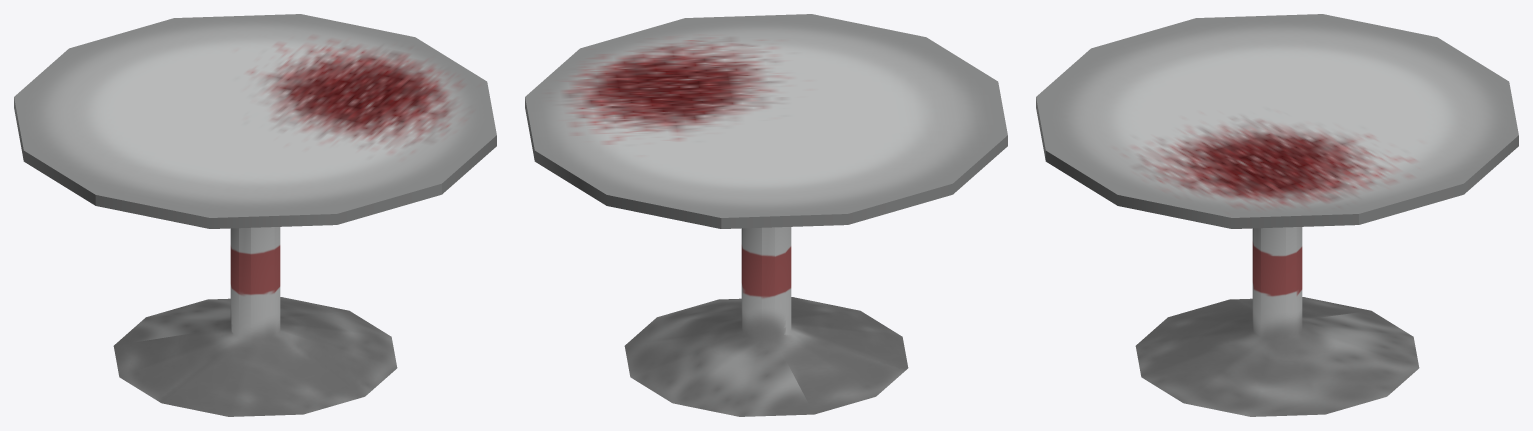
Rendered from Prop_dining_table.fbx.
3 renders of one model, left to right at view 1: azimuth 30°, elevation 25°; view 2: azimuth 150°, elevation 25°; view 3: azimuth 270°, elevation 25°, orthographic.
Parts seen in each view (by area): view 1: Table.001; view 2: Table.001; view 3: Table.001.
Part boxes in pixels (x1,y1,x2,y2): Table.001: (14, 14, 496, 416); Table.001: (525, 14, 1007, 416); Table.001: (1036, 14, 1518, 416).
Size of the model in its own units: 167 by 92.22 by 167.
